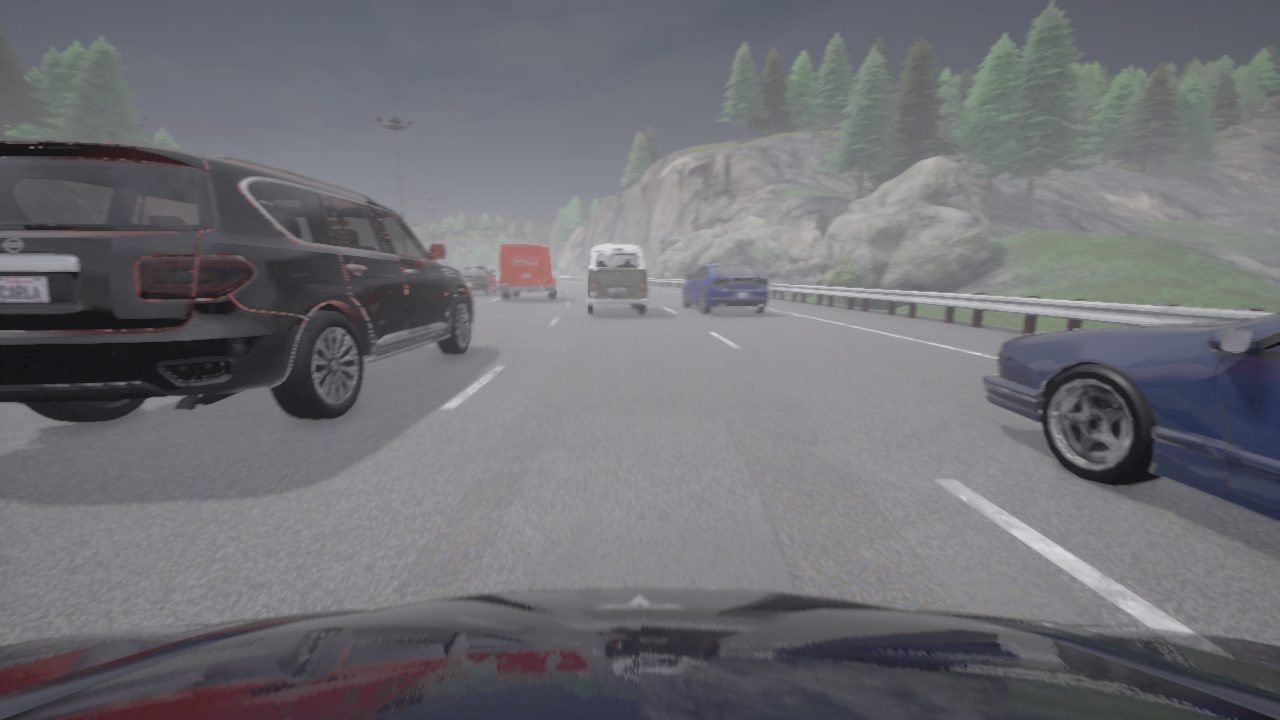cyclist: (0, 588, 1279, 719), (981, 312, 1279, 521), (583, 244, 647, 314), (683, 263, 768, 313), (498, 244, 557, 299), (460, 266, 495, 294)
